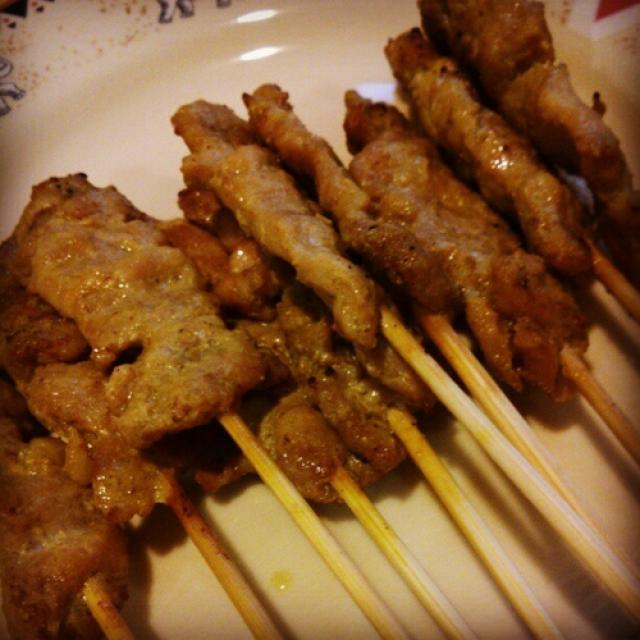牛肉菜式: (12, 16, 627, 618)
